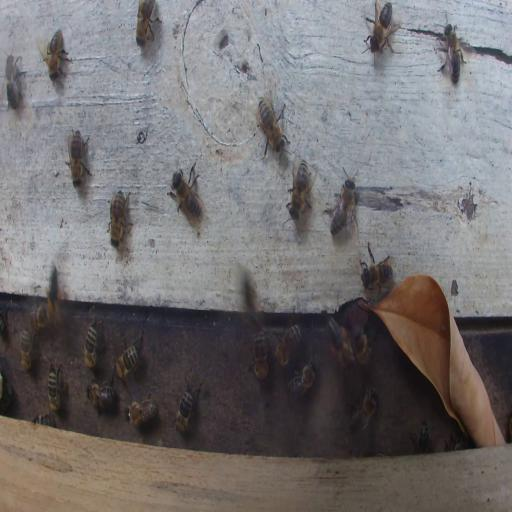bee: (433, 12, 467, 87), (325, 166, 359, 240), (362, 0, 399, 64), (168, 166, 203, 223), (287, 156, 314, 225), (257, 96, 288, 155), (39, 26, 70, 84), (346, 381, 379, 435), (42, 258, 64, 333), (359, 244, 393, 292), (173, 377, 202, 432), (66, 127, 92, 188), (114, 328, 142, 381), (107, 188, 132, 247), (272, 322, 302, 367), (328, 320, 353, 372), (4, 53, 26, 110), (134, 0, 160, 46), (287, 358, 316, 399), (126, 394, 158, 428), (87, 379, 116, 415), (46, 360, 64, 413), (252, 326, 268, 382), (410, 421, 434, 453), (84, 319, 98, 369), (352, 329, 370, 367), (29, 304, 49, 333), (20, 326, 32, 370)
